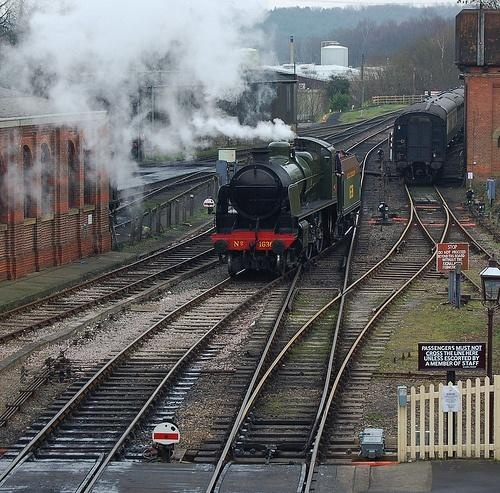train: (214, 137, 366, 277), (396, 87, 466, 183)
